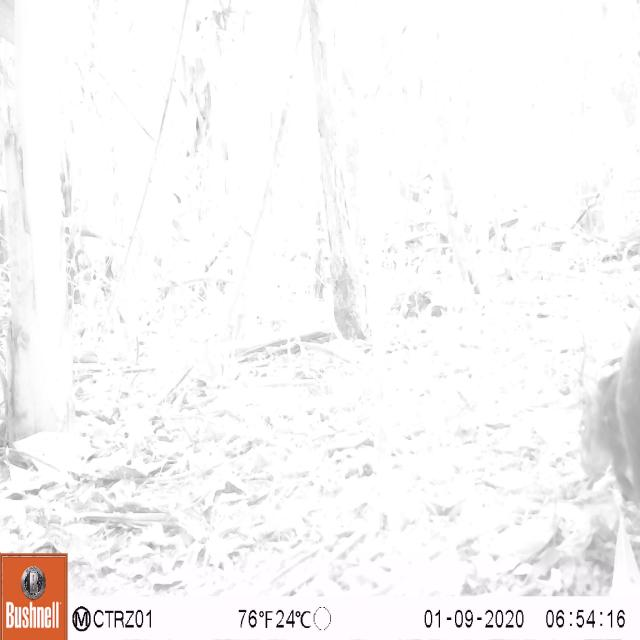Black Agouti: (573, 302, 640, 533)
